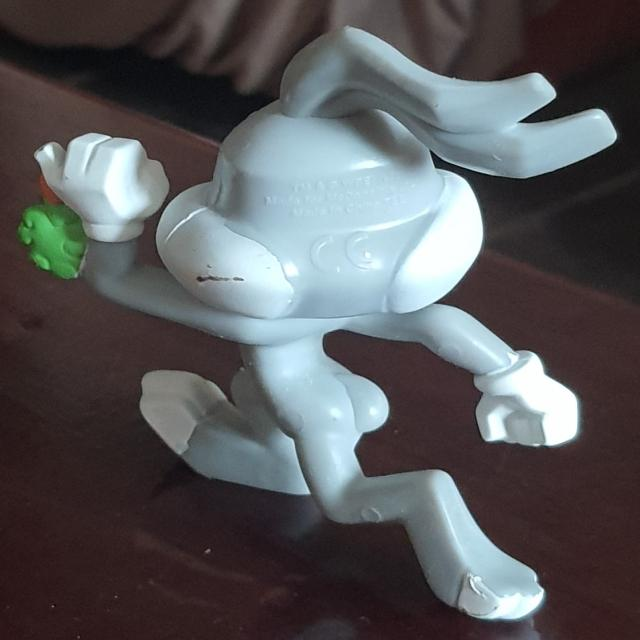Rabbit: (23, 24, 617, 622)
